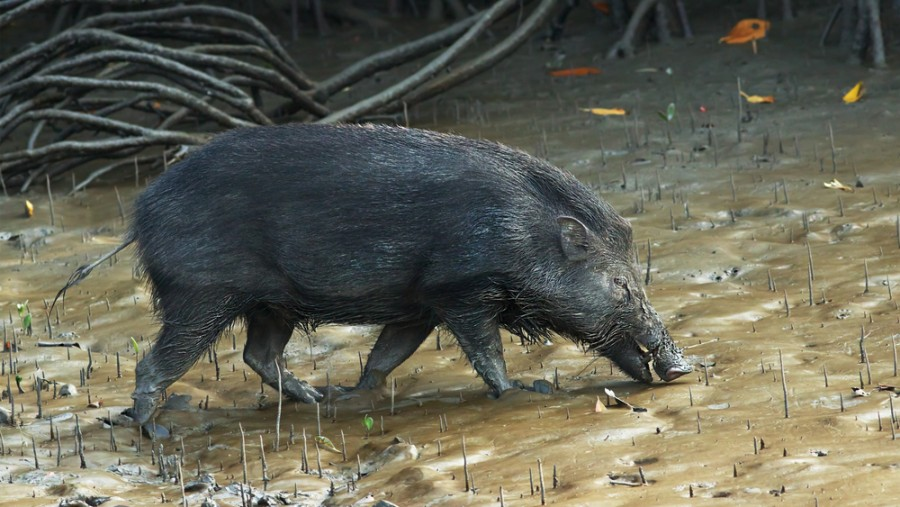wild boar: (45, 118, 726, 445)
